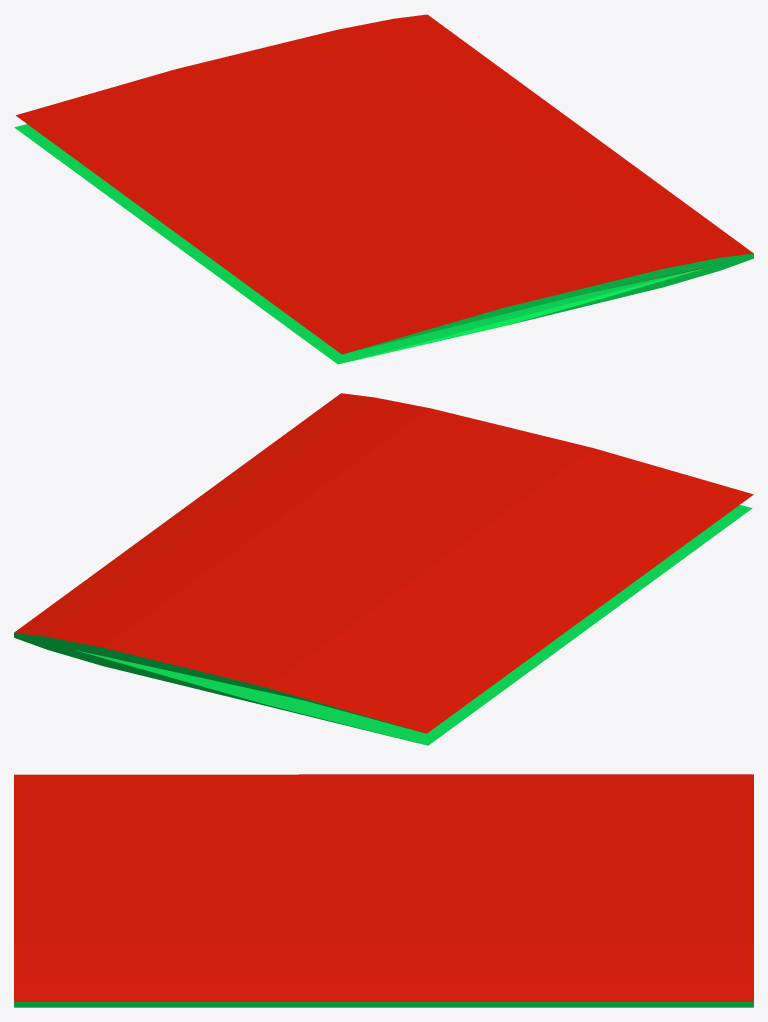
Rendered from ZINE_1.fbx.
The picture shows the model from 3 angles, top to bottom: view 1: azimuth 30°, elevation 25°; view 2: azimuth 150°, elevation 25°; view 3: azimuth 270°, elevation 25°; orthographic projection. The views are drawn at different scales.
Visible parts, largest first — view 1: Cube; view 2: Cube; view 3: Cube.
Boxes of the visible parts, x1,y1,x2,y2 form: Cube: (14, 14, 753, 364); Cube: (14, 393, 753, 745); Cube: (14, 774, 753, 1007).
Size of the model in its own units: 190 by 8.23 by 260.
